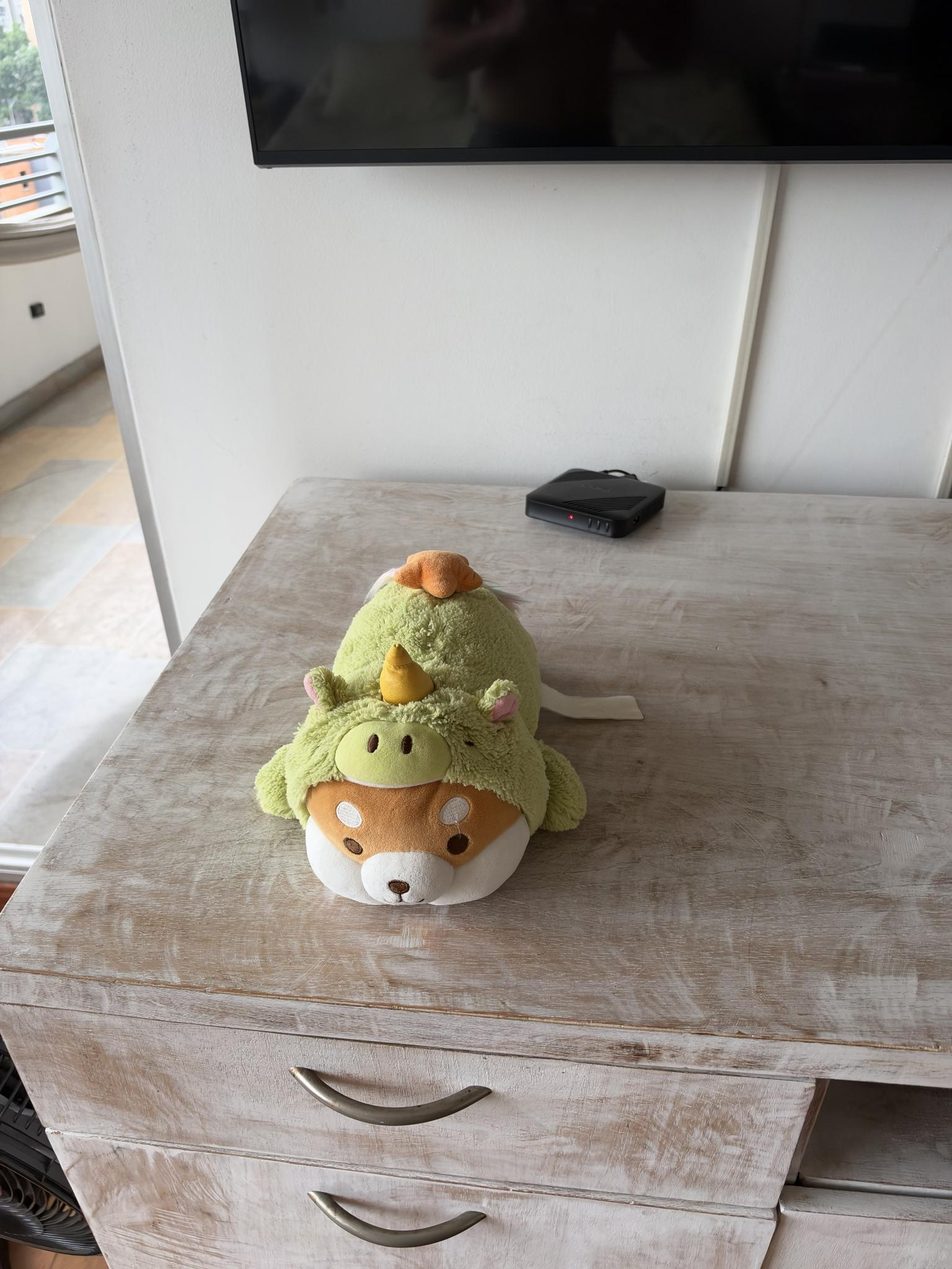peluche_martin: (253, 549, 588, 908)
